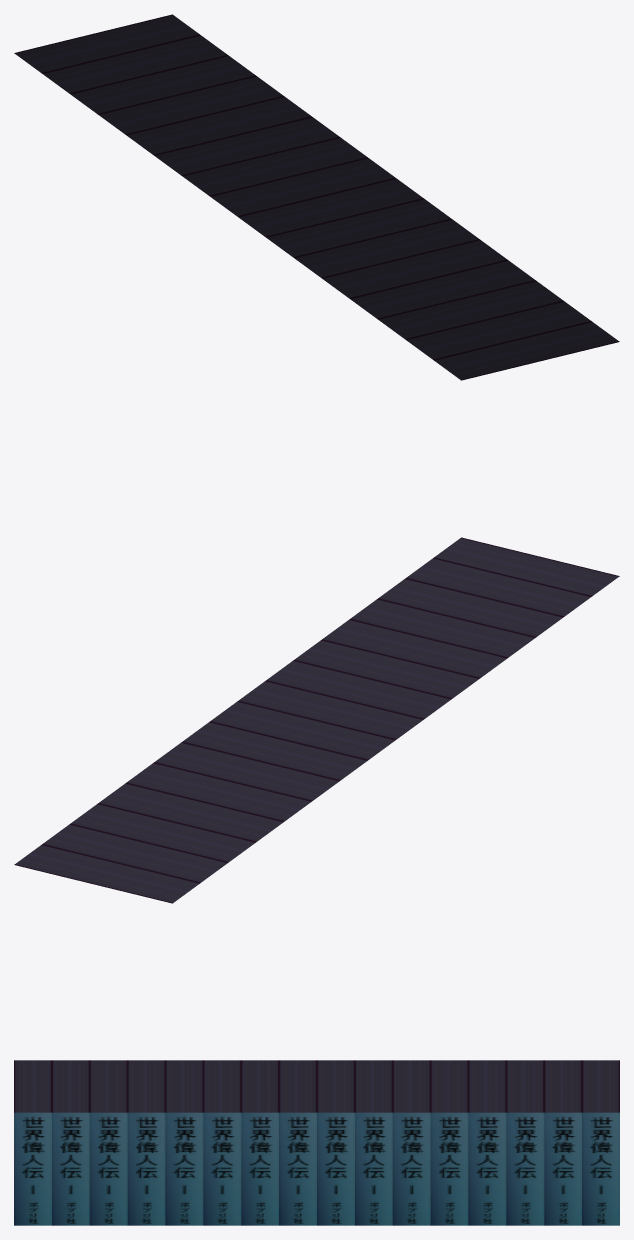
The picture shows the model from 3 angles, top to bottom: view 1: azimuth 30°, elevation 25°; view 2: azimuth 150°, elevation 25°; view 3: azimuth 270°, elevation 25°; orthographic projection. The views are drawn at different scales.
Visible parts, largest first — view 1: Joint_0_Object_0; view 2: Joint_0_Object_0; view 3: Joint_0_Object_0.
Boxes of the visible parts, bbox=[...] form: Joint_0_Object_0: bbox=[14, 14, 619, 380]; Joint_0_Object_0: bbox=[14, 537, 619, 903]; Joint_0_Object_0: bbox=[14, 1060, 619, 1225].
Bounding box in the file's own units: 758 × 761 × 3705.
Materials: 1 (1 with a texture image).
